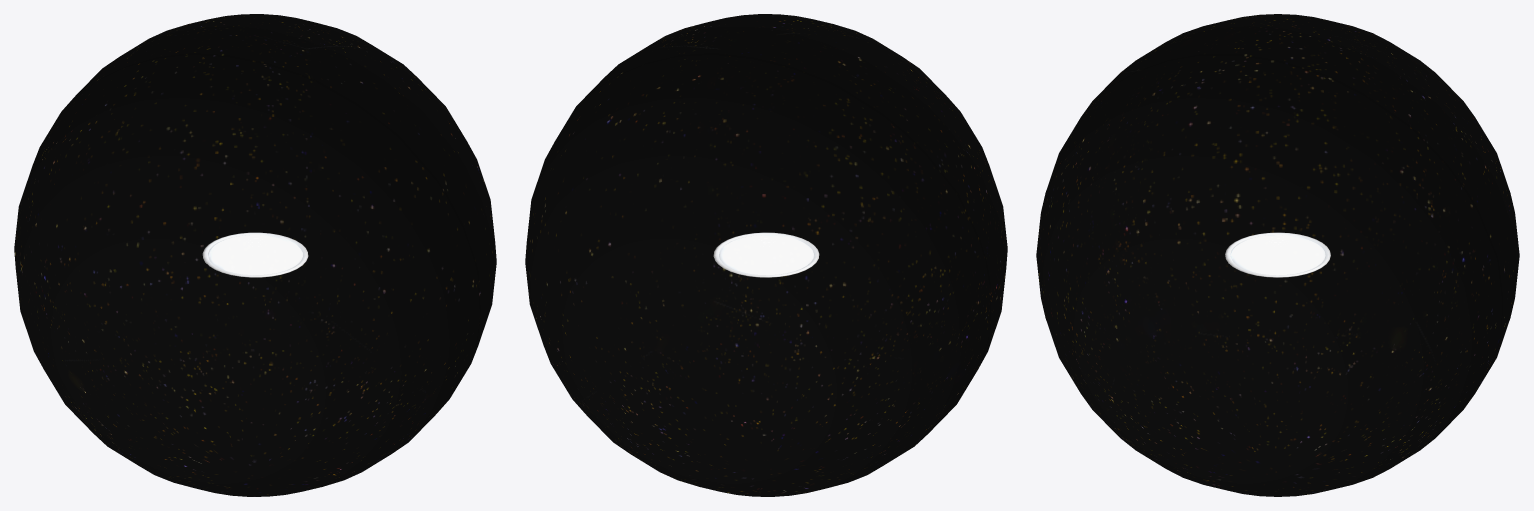
The model's file is Galaxy_01.glb.
The picture shows the model from 3 angles, left to right: view 1: azimuth 30°, elevation 25°; view 2: azimuth 150°, elevation 25°; view 3: azimuth 270°, elevation 25°; orthographic projection.
Parts seen in each view (by area): view 1: Sphere001_02 - Default_0, Galaxy_Material #65_0; view 2: Sphere001_02 - Default_0, Galaxy_Material #65_0; view 3: Sphere001_02 - Default_0, Galaxy_Material #65_0.
Part boxes in pixels (x1,y1,x2,y2): Sphere001_02 - Default_0: (14,14,496,496); Galaxy_Material #65_0: (202,232,308,277); Sphere001_02 - Default_0: (525,14,1007,496); Galaxy_Material #65_0: (713,232,819,277); Sphere001_02 - Default_0: (1036,14,1519,496); Galaxy_Material #65_0: (1225,232,1330,277).
Size of the model in its own units: 80 by 80 by 80.
2 materials, 2 textured.
